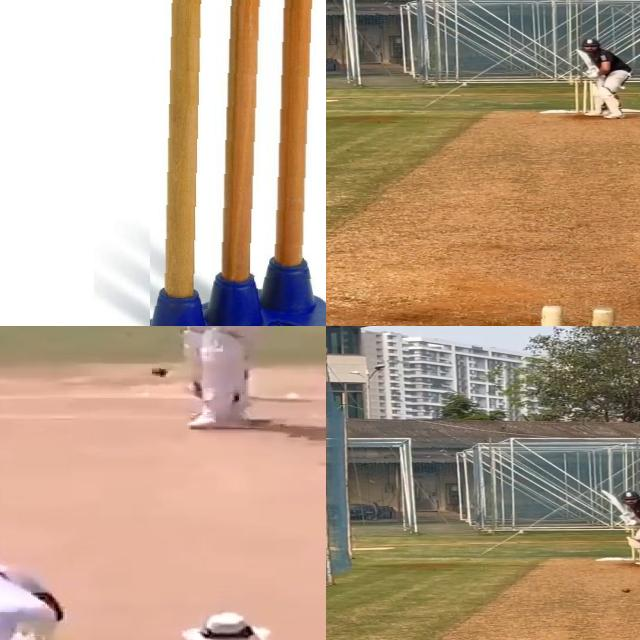Cricket ball: (149, 364, 170, 378), (621, 588, 631, 593)
Stumps: (150, 0, 326, 326), (574, 78, 594, 114)
